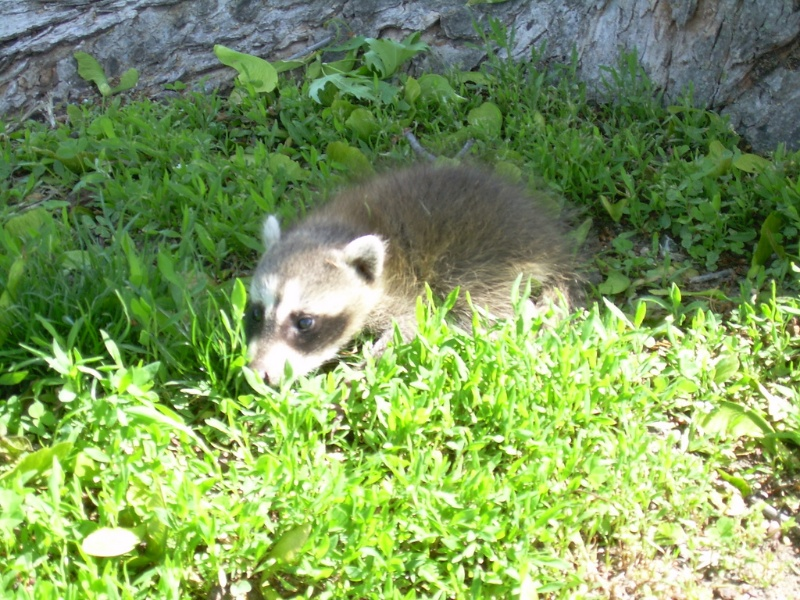raccoon: (238, 152, 585, 389)
